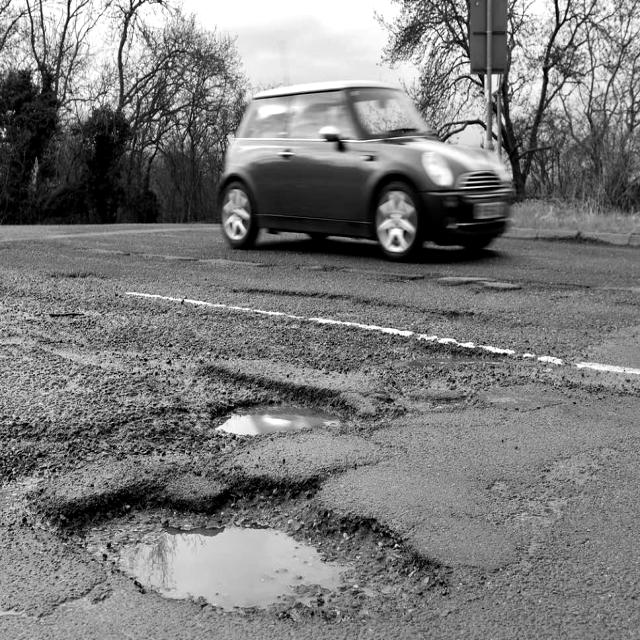pathole: (63, 355, 449, 636)
